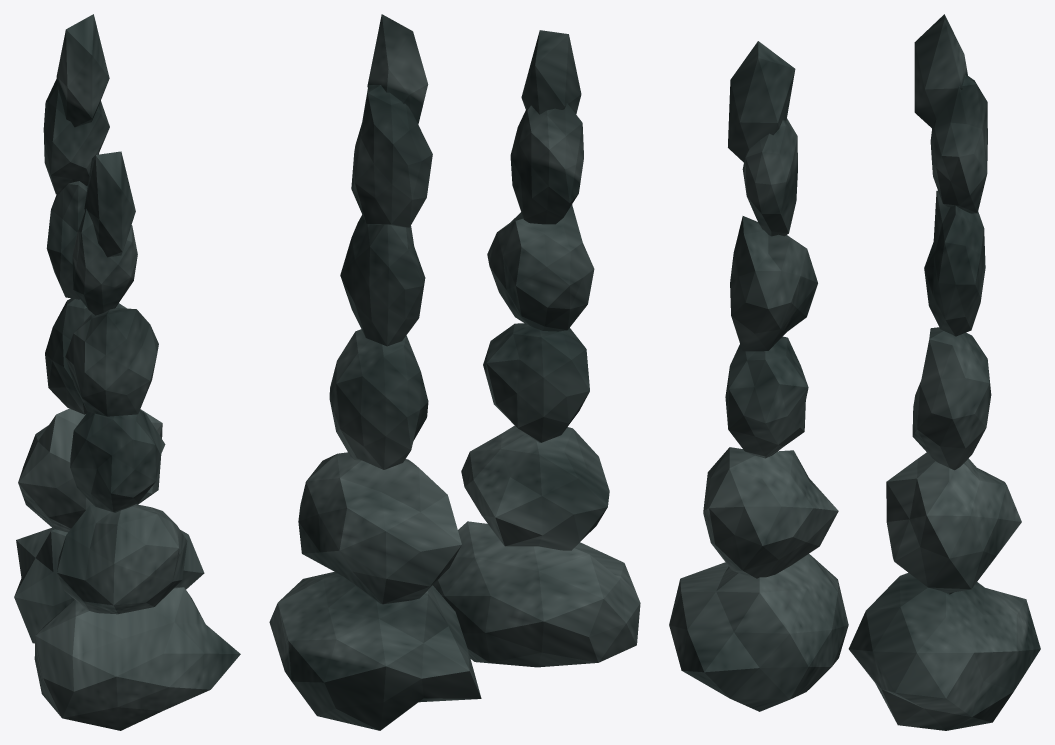
The model's file is 0061_rock_spire_11.glb.
The picture shows the model from 3 angles, left to right: view 1: azimuth 30°, elevation 25°; view 2: azimuth 150°, elevation 25°; view 3: azimuth 270°, elevation 25°; orthographic projection. The views are drawn at different scales.
Visible parts, largest first — view 1: stone_dark; view 2: stone_dark; view 3: stone_dark.
Part boxes in pixels (box(x1,y1,x2,y2)): stone_dark: box(14, 14, 240, 730); stone_dark: box(269, 14, 640, 730); stone_dark: box(669, 14, 1040, 730).
Size of the model in its own units: 1.04 by 2.7 by 1.3.
Materials: 1 (1 with a texture image).
